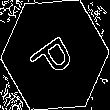P_NE: (27, 26, 83, 84)
